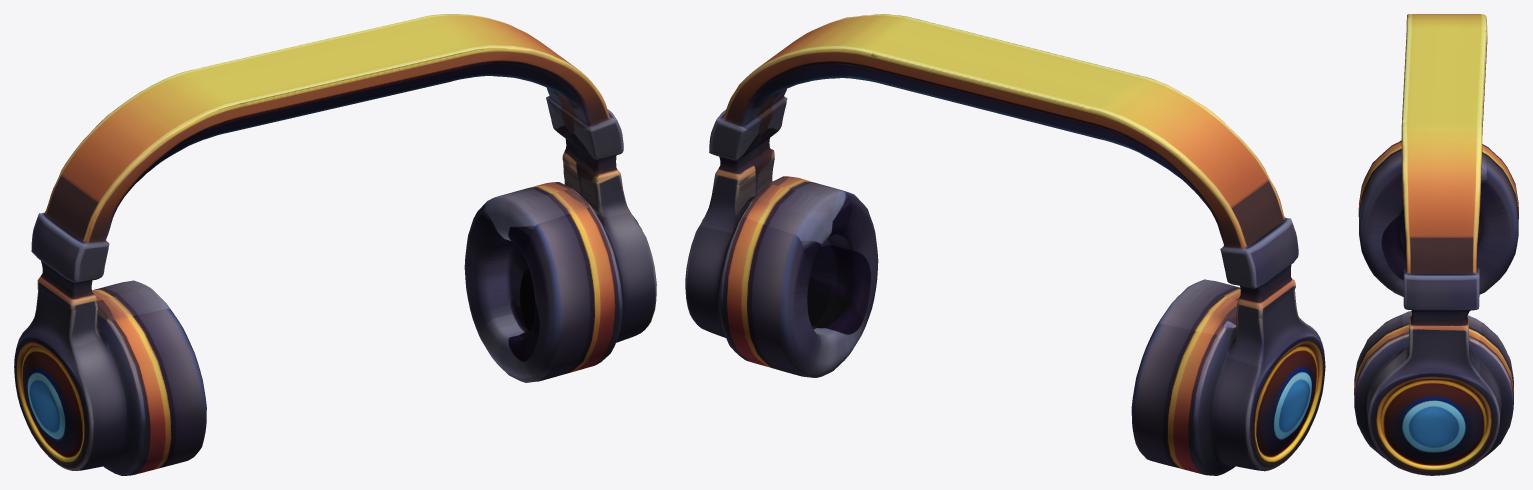
Rendered from Headphones.fbx.
The picture shows the model from 3 angles, left to right: view 1: azimuth 30°, elevation 25°; view 2: azimuth 150°, elevation 25°; view 3: azimuth 270°, elevation 25°; orthographic projection. The views are drawn at different scales.
Parts seen in each view (by area): view 1: model.002; view 2: model.002; view 3: model.002.
Boxes of the visible parts, x1,y1,x2,y2 form: model.002: (14,14,656,475); model.002: (685,14,1325,475); model.002: (1354,14,1518,475).
Bounding box in the file's own units: 63.47 × 36.89 × 18.29.
